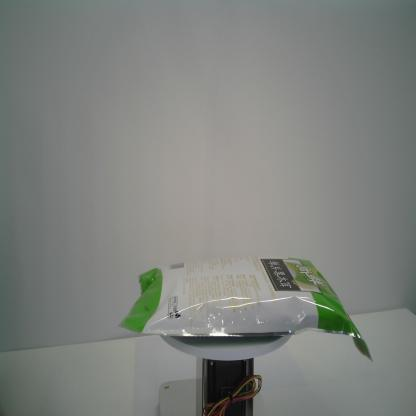Dried Food: (119, 255, 374, 365)
